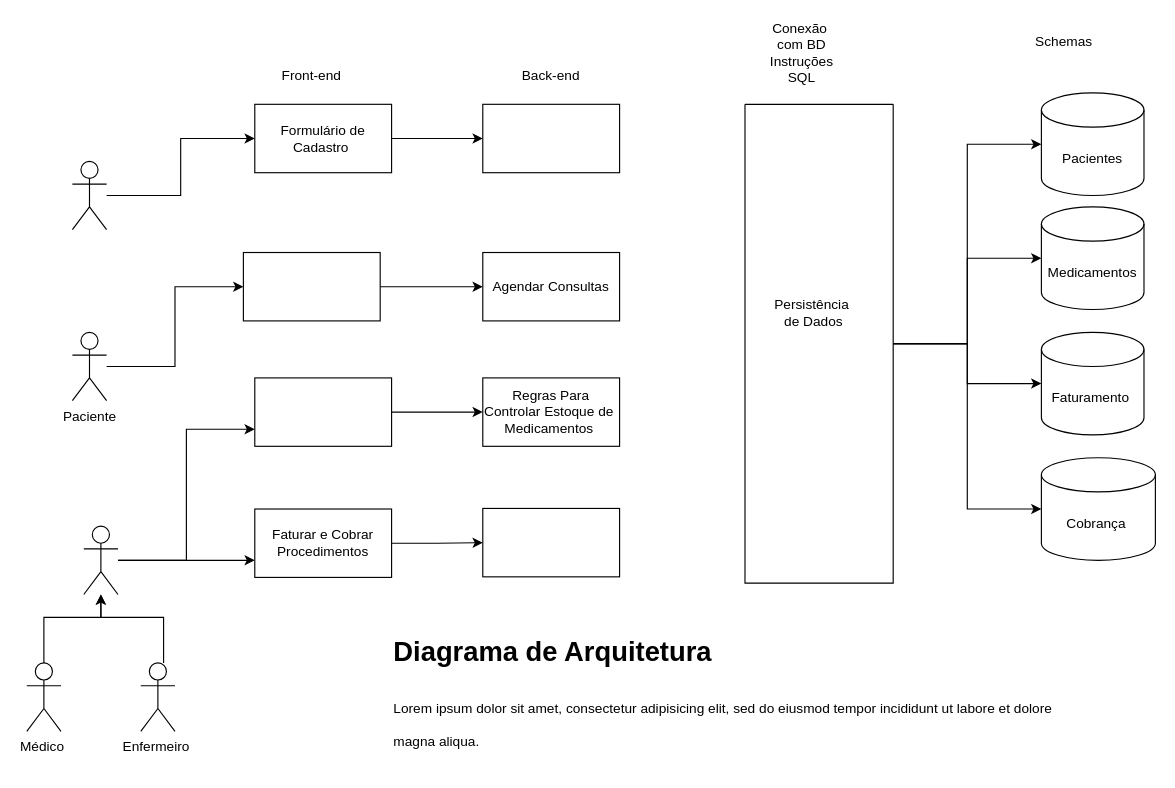
The diagram is 1175 pixels wide and 788 high, and some of its shapes have lost their labels. Here are the shapes that lost their labels. From the top down, the box of each, then its label:
(482, 103, 620, 173): Registrar Paciente (Obter e Gravar Dados do Paciente)
(71, 160, 107, 230): Novo Paciente
(242, 251, 380, 321): Prontuário do Paciente
(254, 377, 392, 446): Controlar Estoque de Medicamentos
(83, 525, 118, 595): Prof. Saúde
(482, 507, 620, 577): Regras Para Faturar e Cobrar Procedimentos
